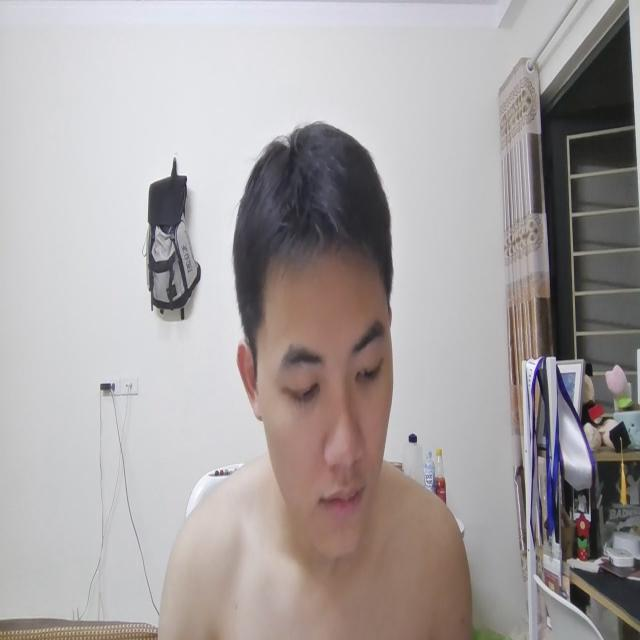student: (164, 121, 474, 640)
